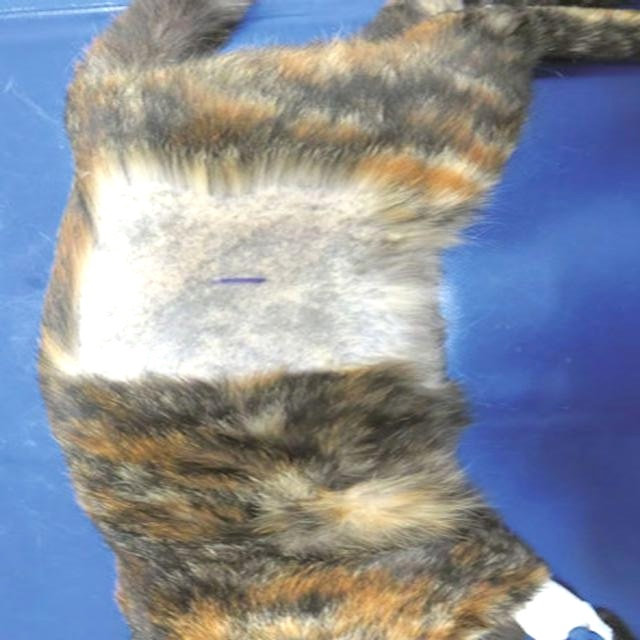hairloss: (61, 188, 446, 378)
